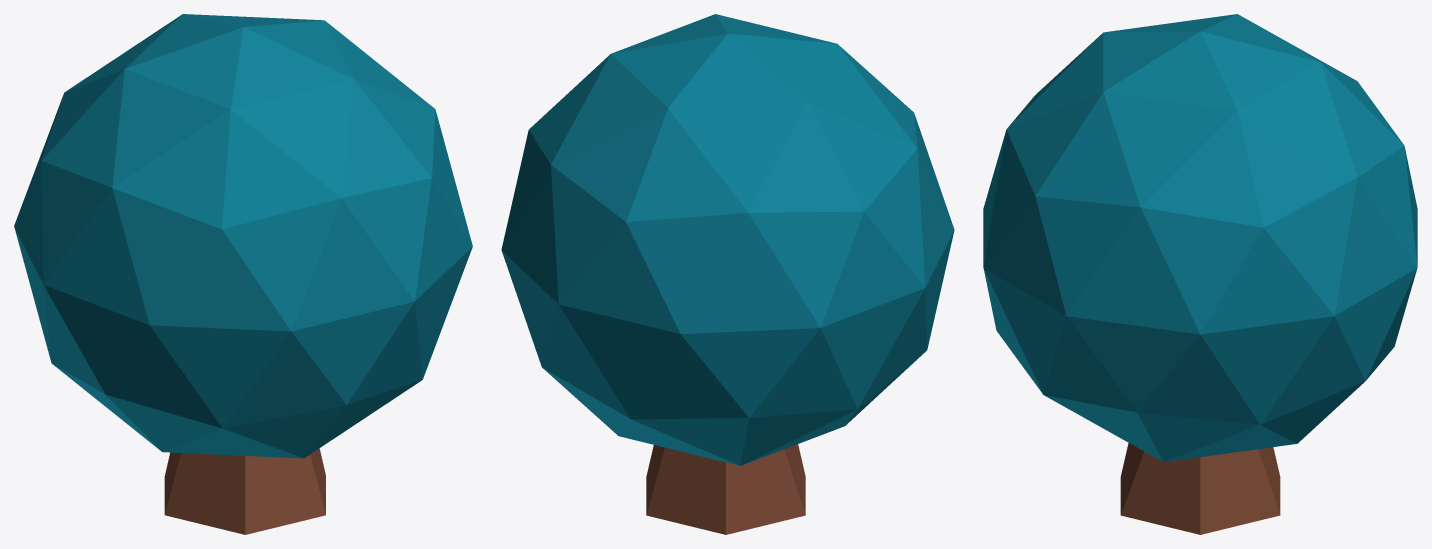
The model's file is Bush_2_summer_blue_vc.fbx.
3 views of the same model, side by side, from view 1: azimuth 30°, elevation 25°; view 2: azimuth 150°, elevation 25°; view 3: azimuth 270°, elevation 25° (orthographic).
Visible parts, largest first — view 1: Bush_2_summer_blue_vc; view 2: Bush_2_summer_blue_vc; view 3: Bush_2_summer_blue_vc.
Boxes of the visible parts, box(x1,y1,x2,y2) form: Bush_2_summer_blue_vc: box(14, 14, 472, 534); Bush_2_summer_blue_vc: box(501, 14, 954, 534); Bush_2_summer_blue_vc: box(983, 14, 1417, 534).
Bounding box in the file's own units: 35.19 × 39.46 × 33.47.
